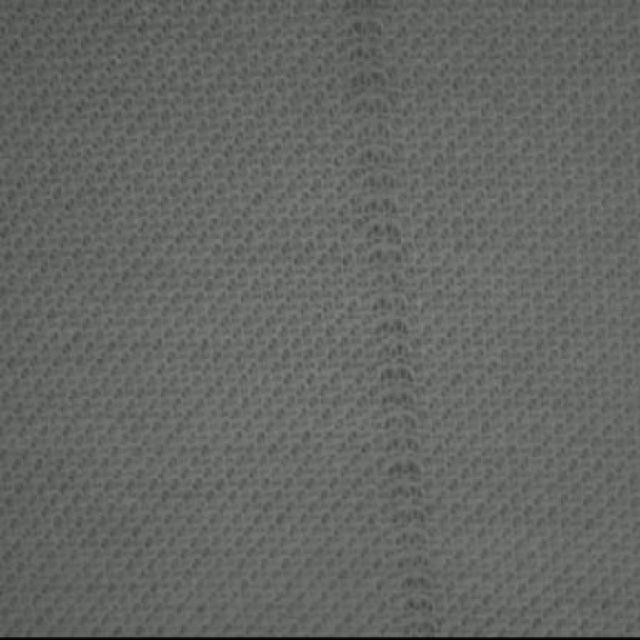Line: (337, 0, 444, 635)
